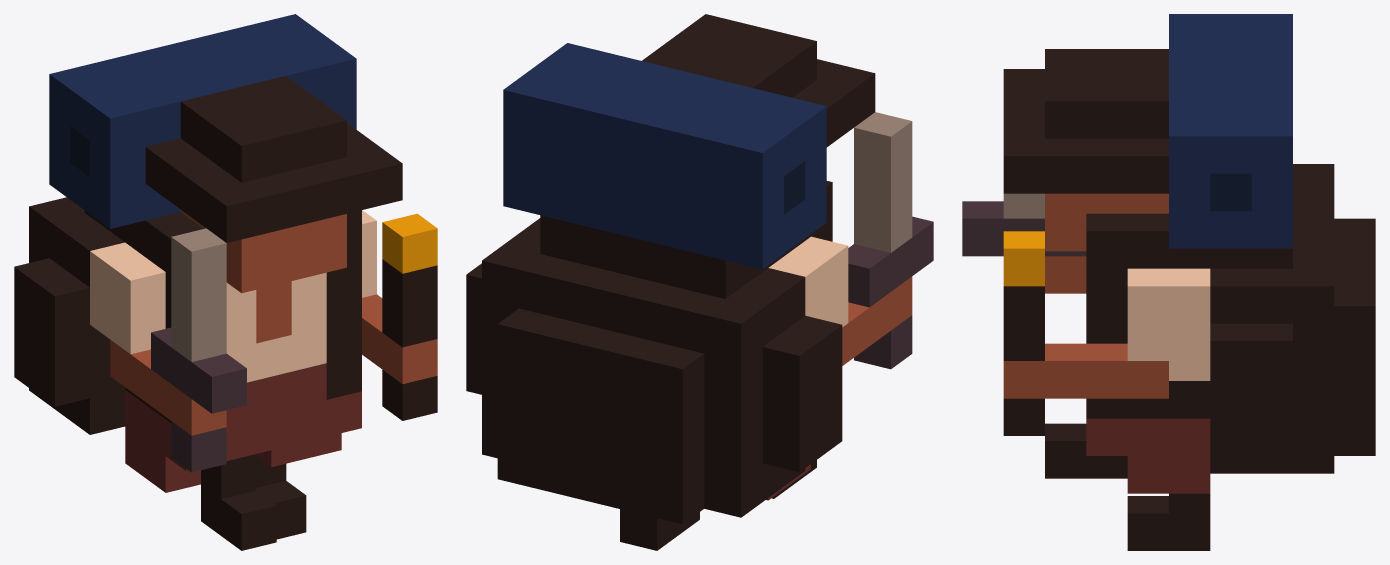
Rendered from adventurer_walk_3.obj.
The picture shows the model from 3 angles, left to right: view 1: azimuth 30°, elevation 25°; view 2: azimuth 150°, elevation 25°; view 3: azimuth 270°, elevation 25°; orthographic projection. The views are drawn at different scales.
Size of the model in its own units: 0.9 by 1.2 by 1.
Materials: 1 (1 with a texture image).
